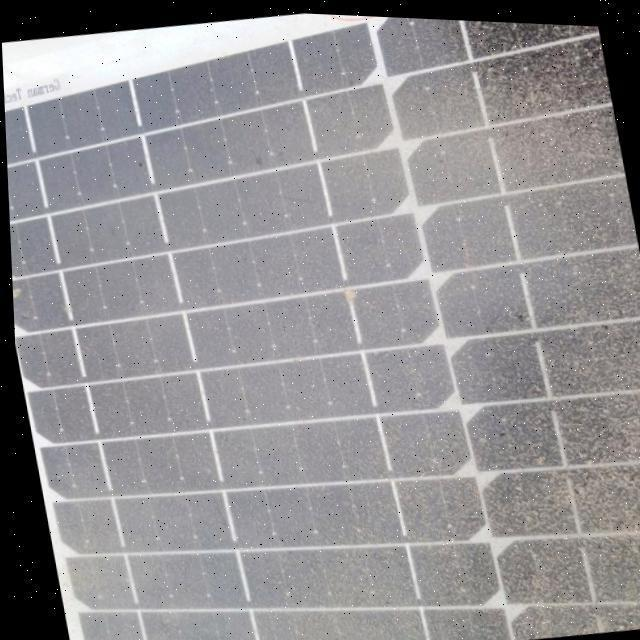Anomaly Solar Panel: (2, 35, 630, 640)
Surface Contaminant: (4, 54, 629, 640)
